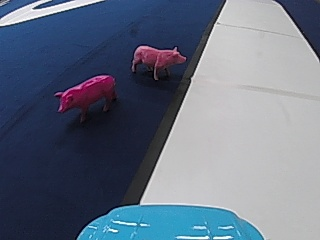pig: (51, 70, 117, 123), (129, 41, 186, 80)
